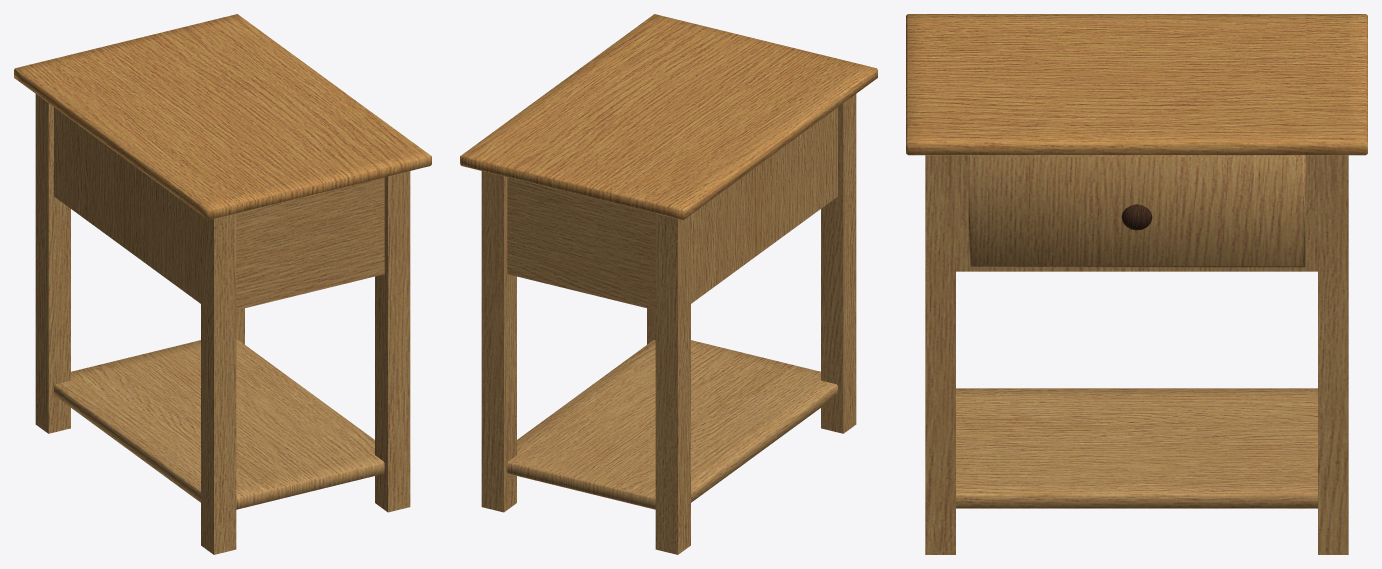
File: bedside_table_1.obj
3 renders of one model, left to right at view 1: azimuth 30°, elevation 25°; view 2: azimuth 150°, elevation 25°; view 3: azimuth 270°, elevation 25°, orthographic. The views are drawn at different scales.
Visible parts, largest first — view 1: bedside_table_1; view 2: bedside_table_1; view 3: bedside_table_1.
Part boxes in pixels (x1,y1,x2,y2): bedside_table_1: [14, 14, 431, 554]; bedside_table_1: [460, 14, 877, 554]; bedside_table_1: [906, 14, 1367, 554].
Size of the model in its own units: 4.02 by 5.98 by 5.96.
1 material, 1 textured.
